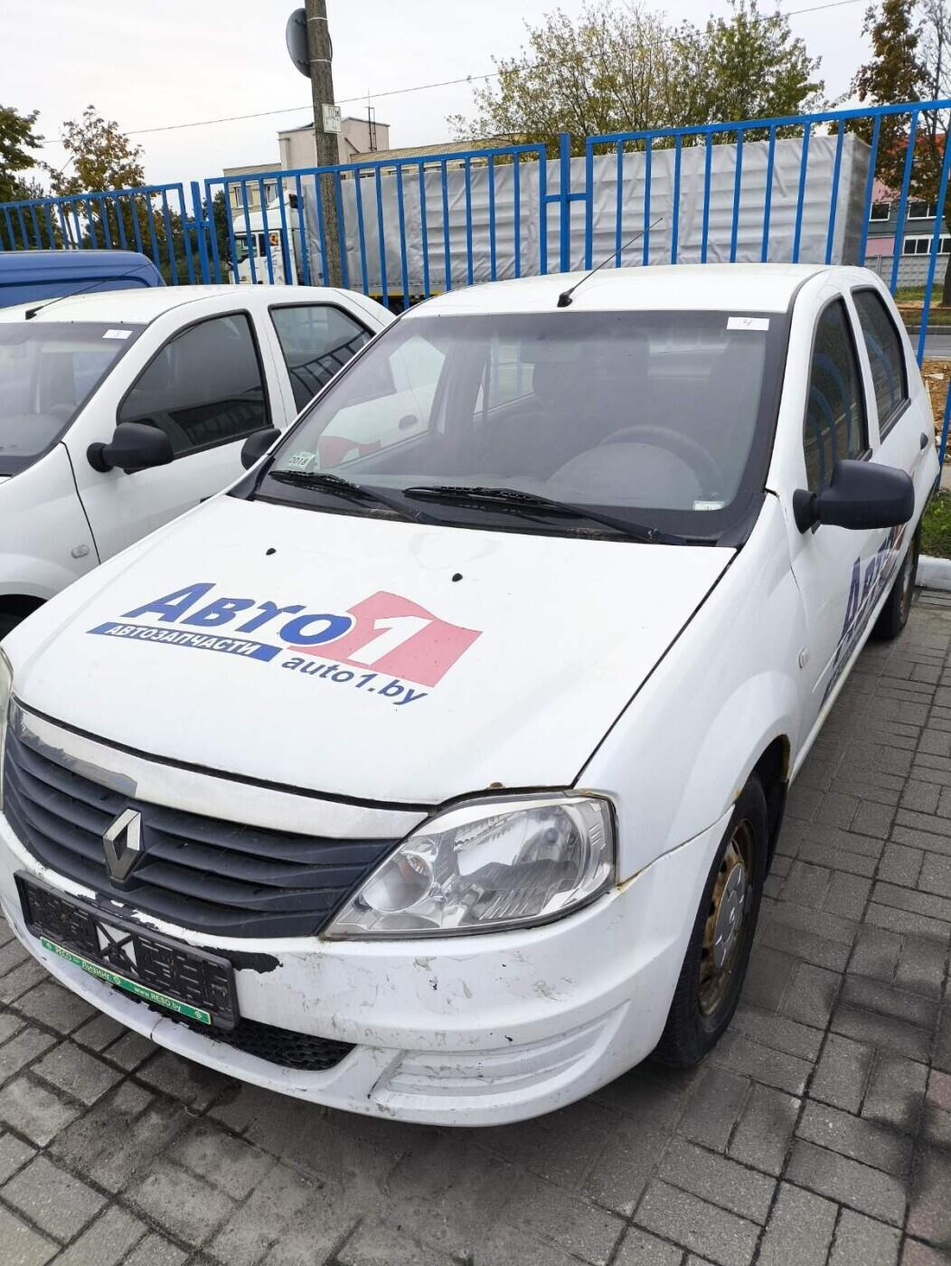Logan_2008-2015: (0, 255, 951, 1156)
